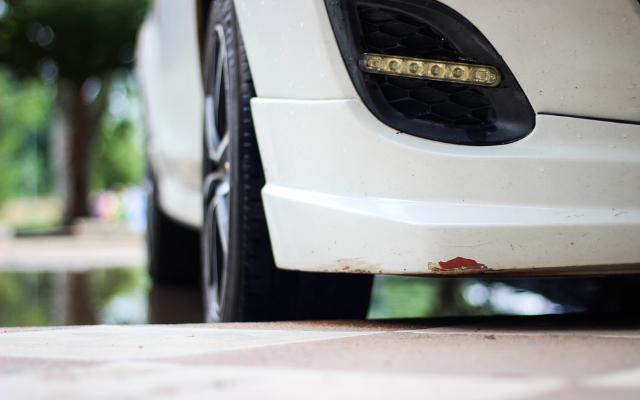scratch: (321, 254, 499, 275)
